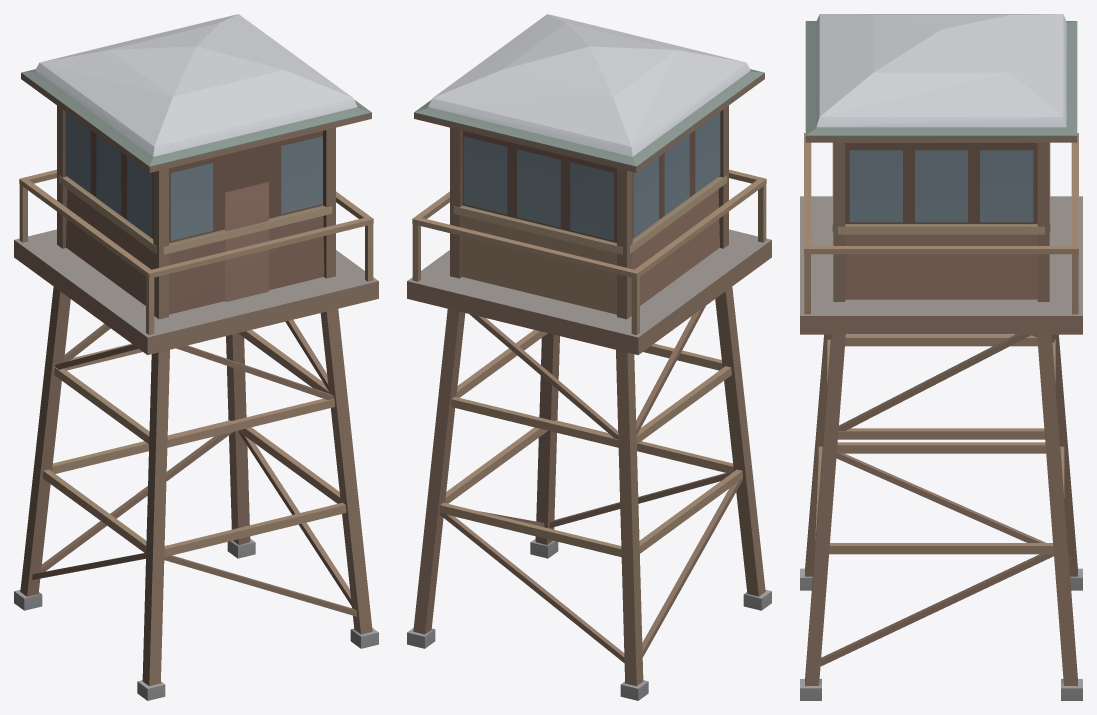
Rendered from lookout.lod2.glb.
3 views of the same model, side by side, from view 1: azimuth 30°, elevation 25°; view 2: azimuth 150°, elevation 25°; view 3: azimuth 270°, elevation 25° (orthographic). The views are drawn at different scales.
Bounding box in the file's own units: 5.2 × 12.41 × 5.2.
